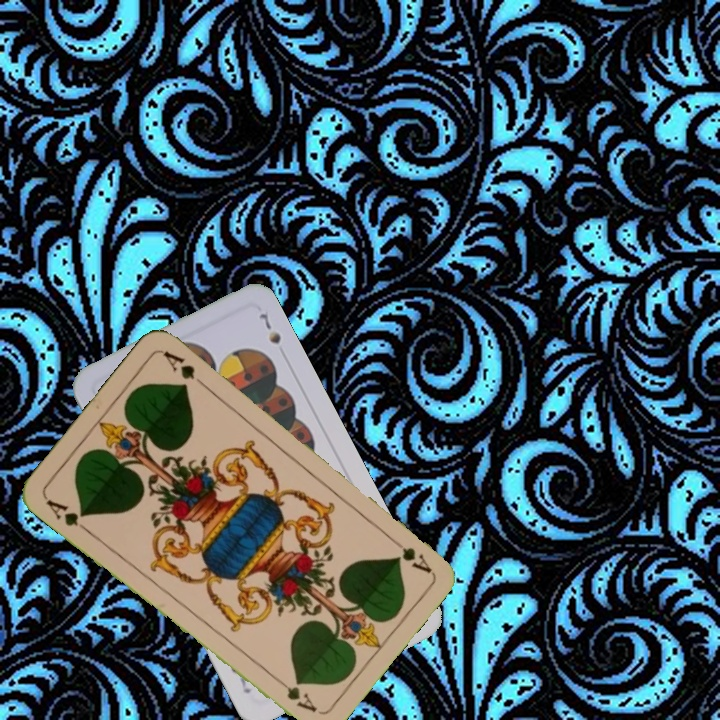GA: (384, 532, 434, 576), (41, 495, 92, 536)
